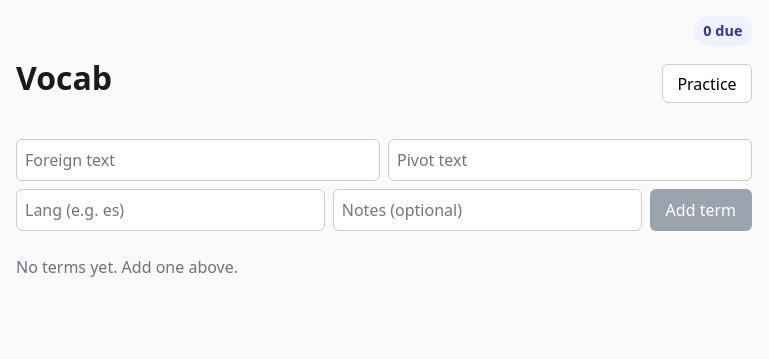
Scenario: Vocab screen › adds a term through the inline form once every text field is set
The image size is (769, 359).
Expected: the text "No terms yet. Add one above." is shown, [16,256,238,278]
Expected: the button "Add term" is disabled, [650,189,752,231]
Step 1. Type "perro" into the field labelled "Foreign text" → (198, 160), box [16,139,380,181]
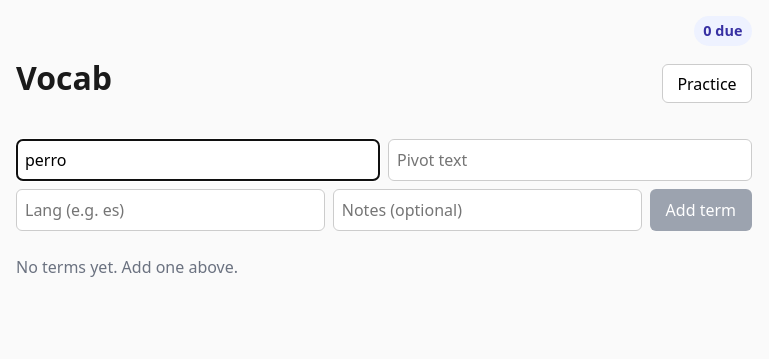
Step 2. Type "dog" into the field labelled "Pivot text" → (570, 160), box [388,139,752,181]
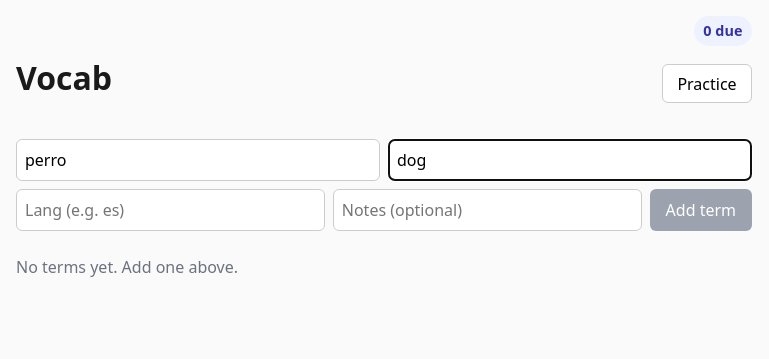
Step 3. Type "es" into the field named "foreign lang" → (170, 210), box [16,189,325,231]
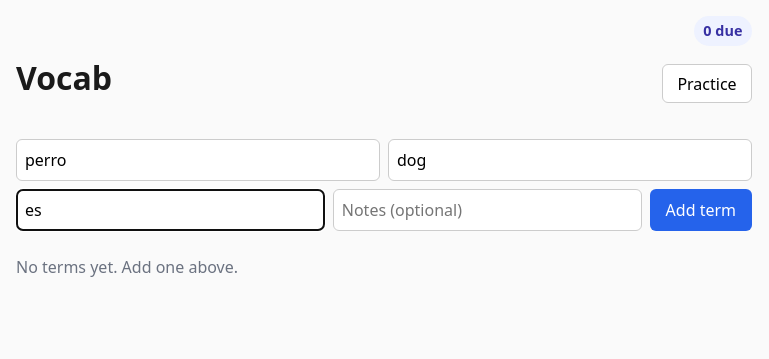
Expected: the button "Add term" is enabled
Step 4. Click the button "Add term" → (701, 210), box [650,189,752,231]
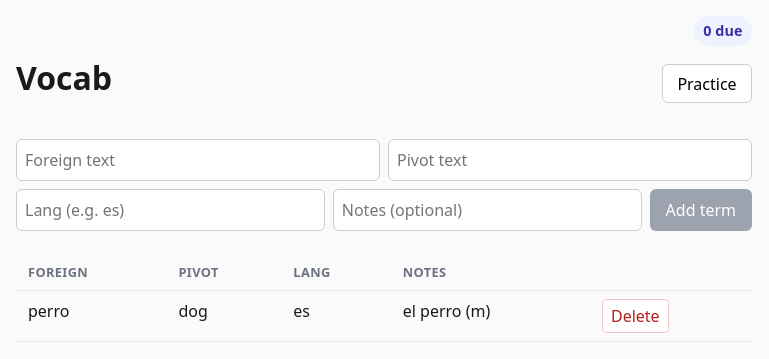
Expected: the text "perro" is shown, [16,291,166,342]
Expected: the button "el perro (m)" is shown, [403,299,490,323]
